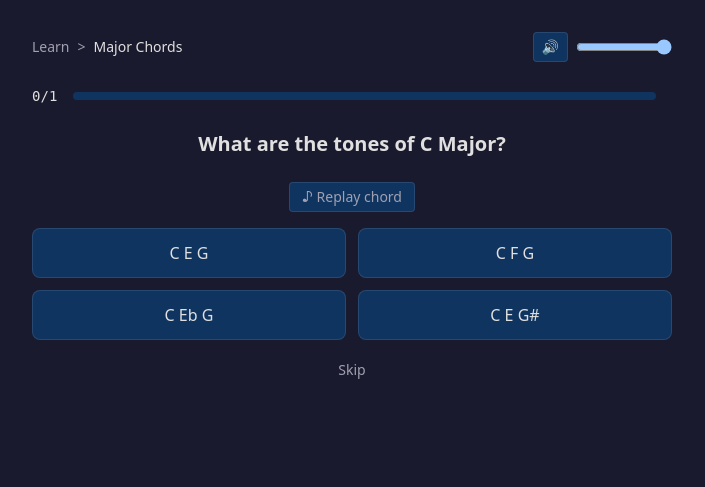
Test: FlashcardSession › shows session summary with accuracy after all cards
This screenshot has width=705, height=487.
Click the button with test id "option-C E G".
click(189, 253)  # box [32,228,346,278]
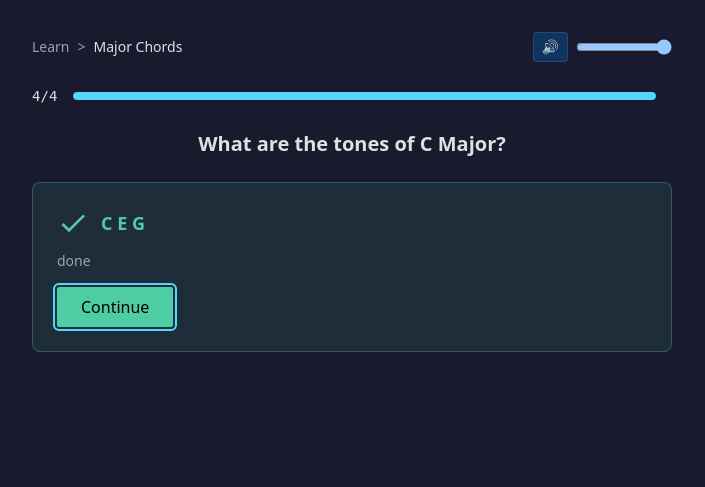
Result: the button with test id "continue-button" is shown
Click the button with test id "continue-button".
click(115, 307)  # box [57,287,173,327]
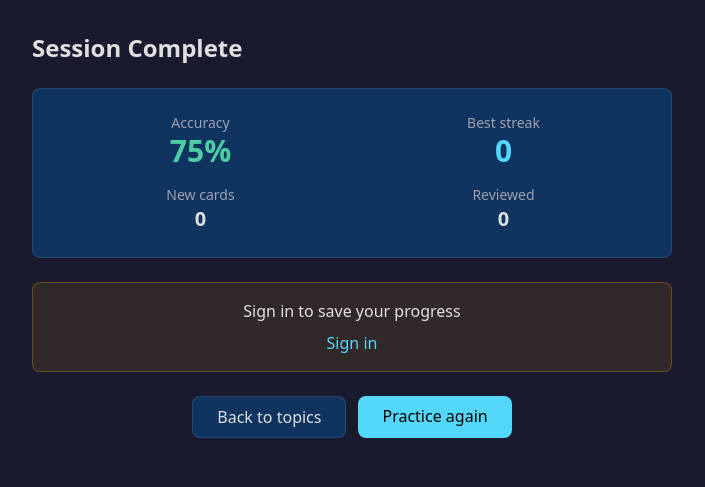
Result: the element with test id "session-summary" is shown
Result: the text with test id "summary-accuracy" reads "75%" at [170,130,231,171]
Result: the text with test id "summary-streak" reads "0" at [495,130,512,171]
